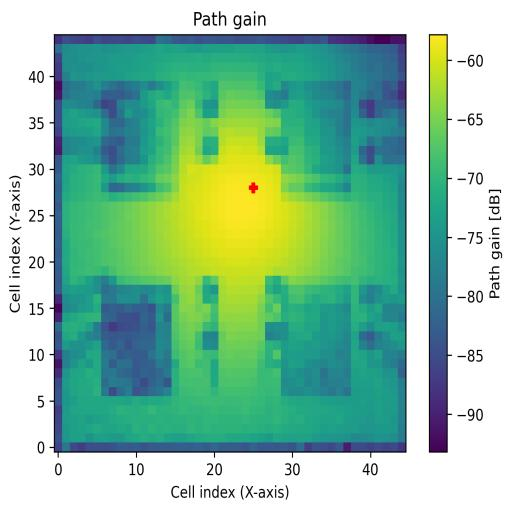Concrete: (281, 80, 352, 193)
Glass: (101, 80, 179, 201)
Metal: (282, 284, 352, 396)
Wood: (101, 284, 173, 398)
